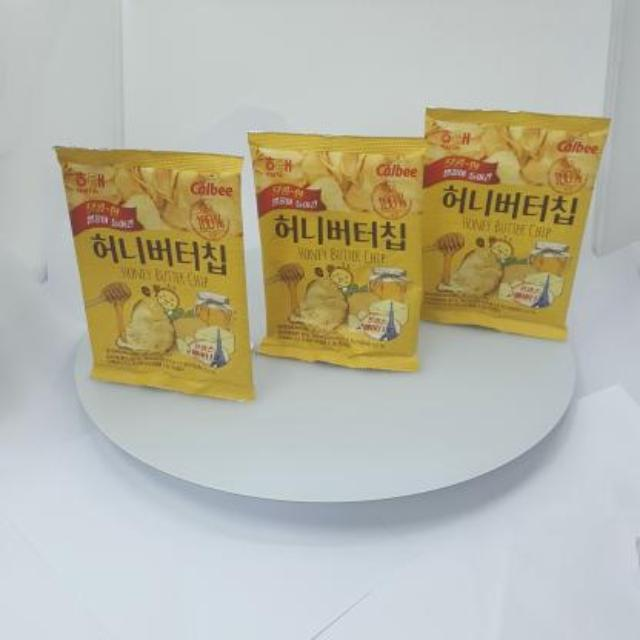snack_bag: (40, 98, 616, 414)
